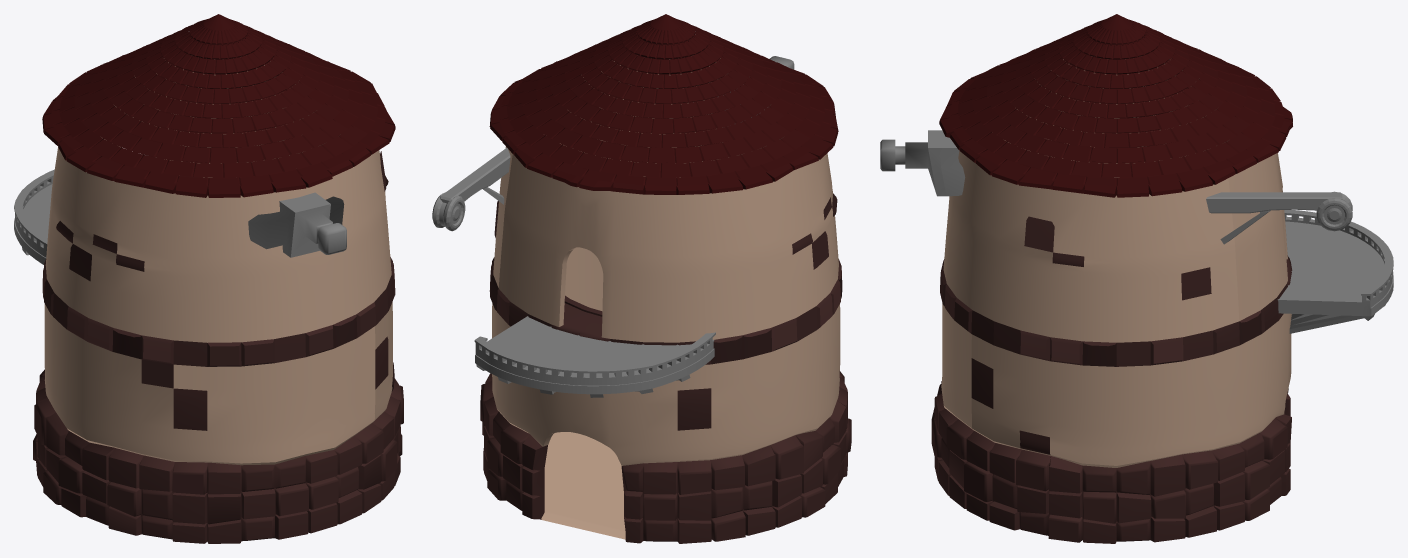
The model's file is ST_Windmil.fbx.
3 renders of one model, left to right at view 1: azimuth 30°, elevation 25°; view 2: azimuth 150°, elevation 25°; view 3: azimuth 270°, elevation 25°, orthographic.
Parts seen in each view (by area): view 1: ST_Moulin; view 2: ST_Moulin; view 3: ST_Moulin.
Part boxes in pixels (x1,y1,x2,y2): ST_Moulin: [14, 14, 403, 543]; ST_Moulin: [432, 14, 851, 543]; ST_Moulin: [880, 14, 1393, 543].
Bounding box in the file's own units: 1951 × 2638 × 2697.
